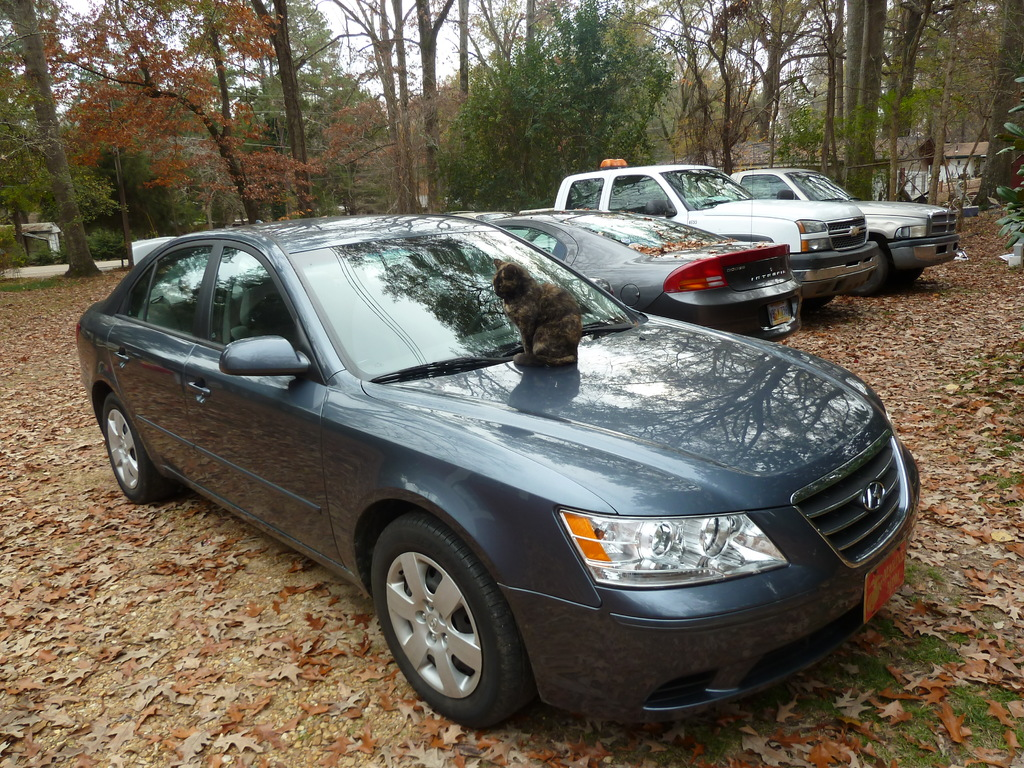Tree: (0, 0, 1024, 278)
